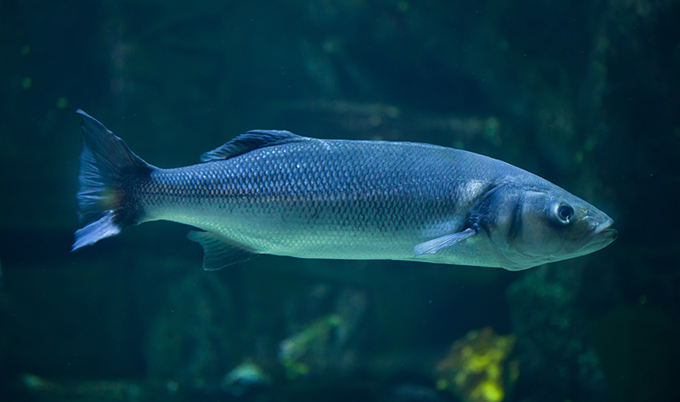fish: (40, 95, 628, 304)
